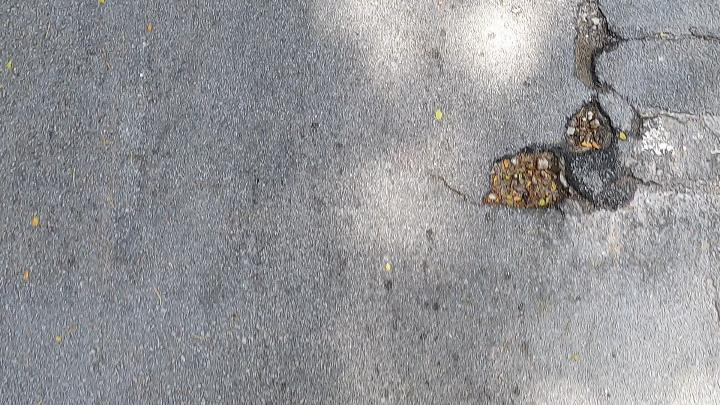Pothole: (478, 0, 639, 210), (483, 0, 634, 210)
